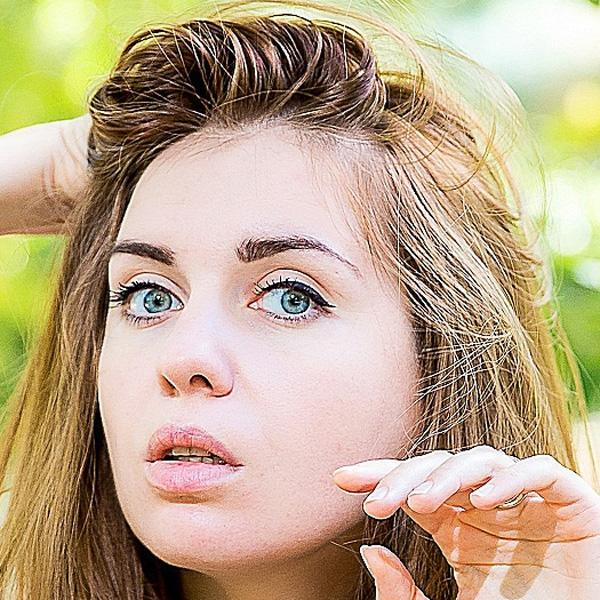Eyes: (238, 265, 334, 334), (109, 266, 189, 332)
